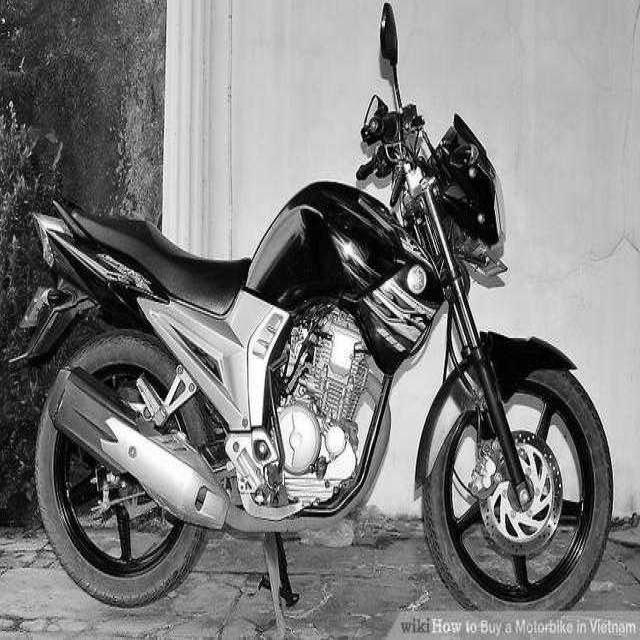Motorcycle: (22, 3, 612, 636)
